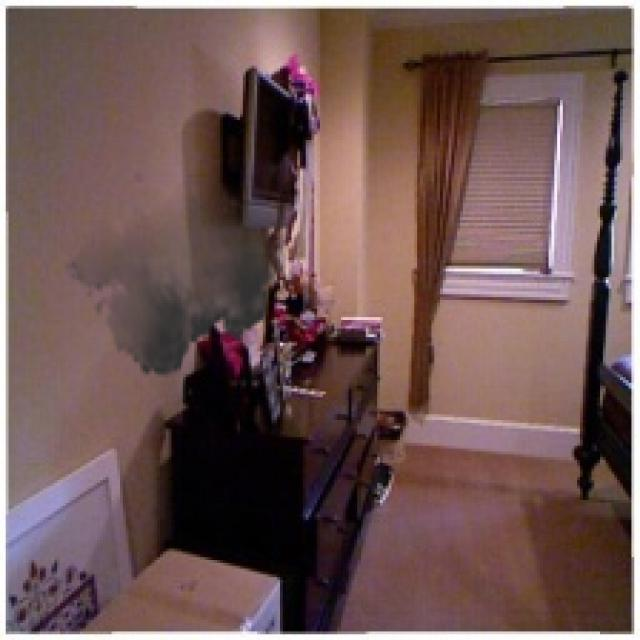Smoke: (62, 160, 288, 386)
